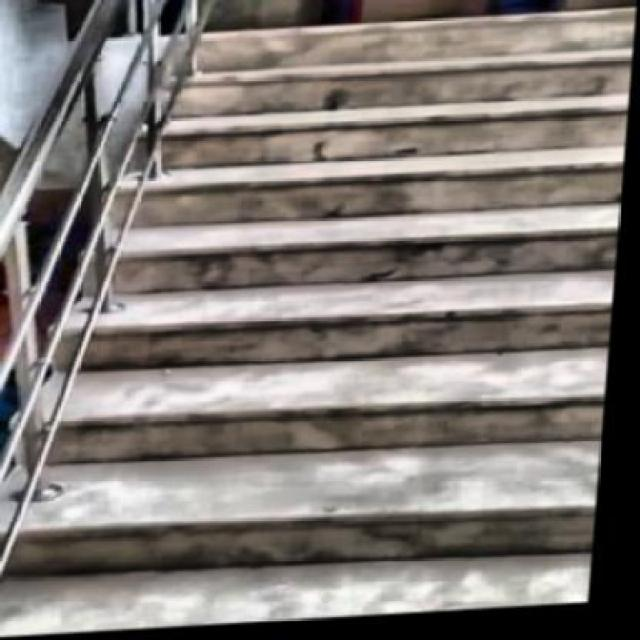stair: (82, 4, 636, 634)
